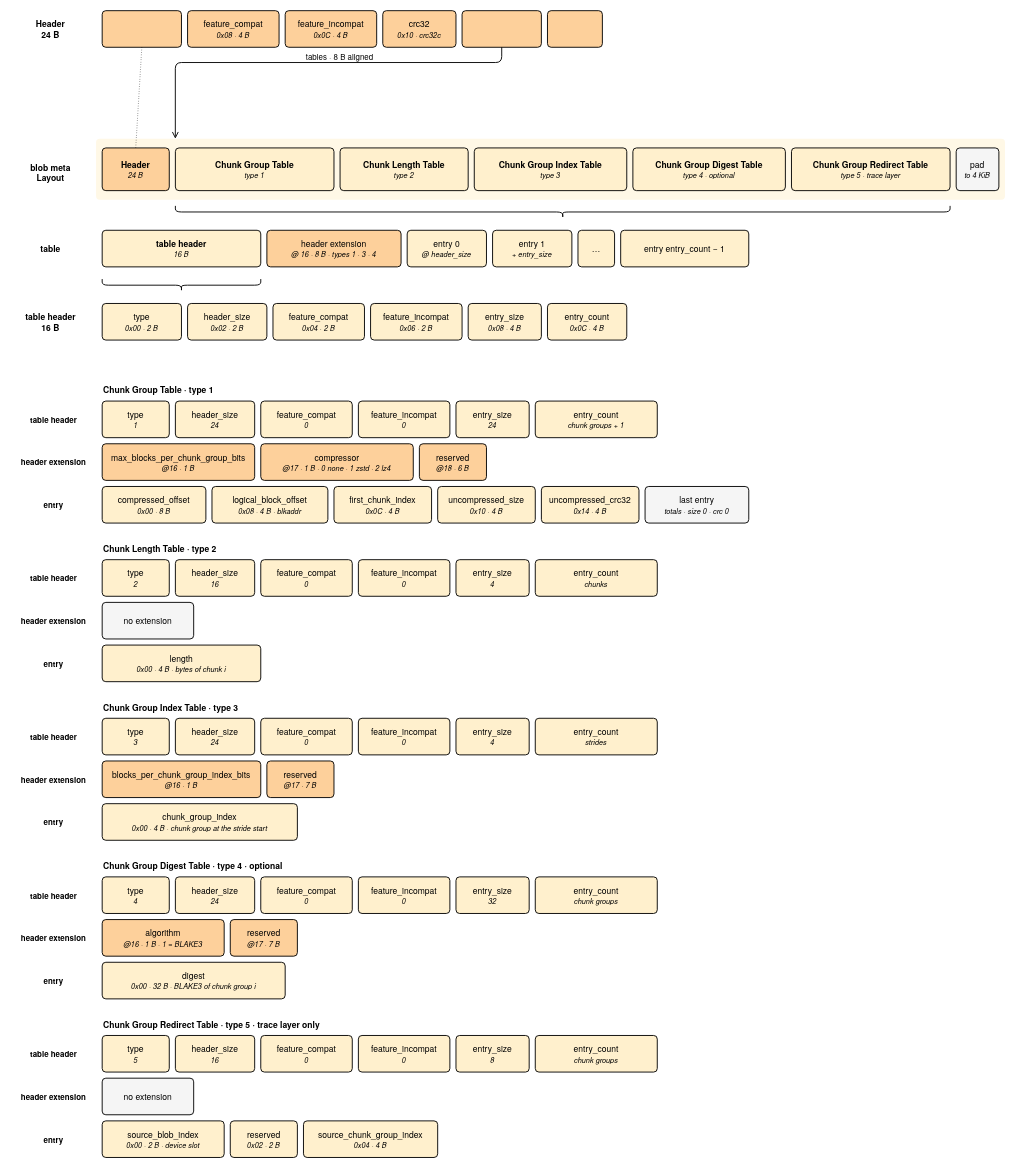
This 1015x1169 diagram has some shape labels left out. Here are the shapes that lost their labels. From the top down, the centre of each, then its label:
the point at 141,28: magic 0x00 · "NDBLMETA"
the point at 501,28: table_count 0x14 · 2 B
the point at 575,28: reserved 0x16 · 2 B
